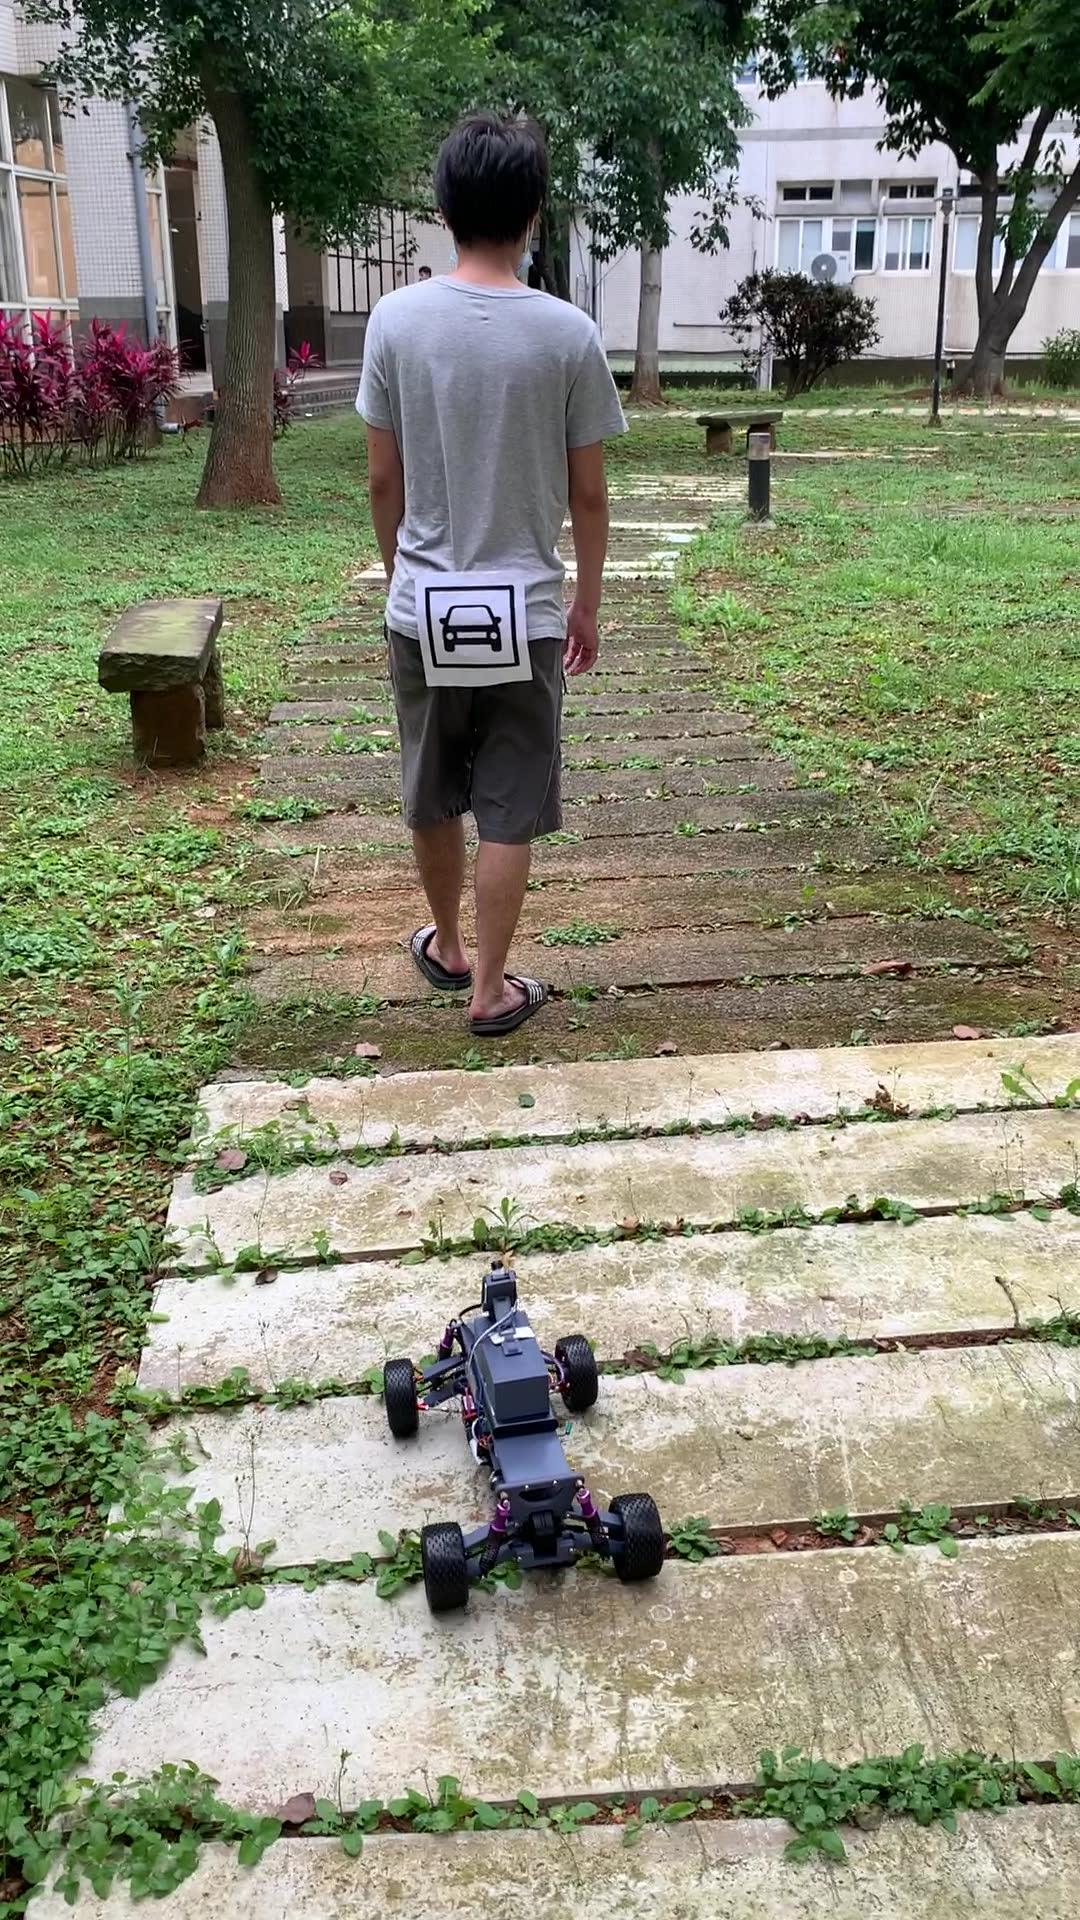car_img: (423, 584, 522, 669)
